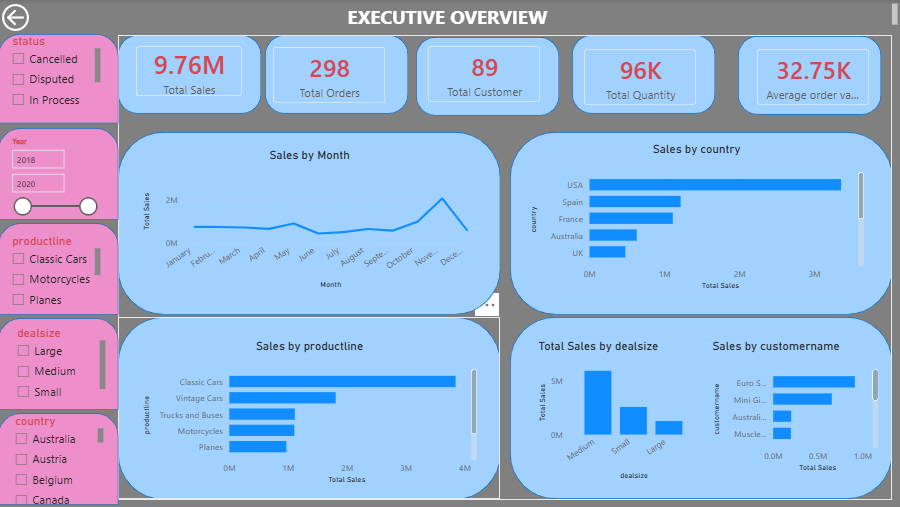

What the dashboard file says about the page in this screenshot:
{"tool":"powerbi","page":{"name":"Executive Overview","canvas":[1280,720],"ordinal":1},"visuals":[{"type":"shape","box":[0,47.9,170.9,126.7],"z":0,"group":"g2"},{"type":"group","id":"g1","title":"Group 1","box":[170.2,50.1,1097.1,657.9],"z":0},{"type":"shape","box":[379,50.1,203.1,111.6],"z":0,"group":"g1"},{"type":"group","id":"g2","title":"Group 2","box":[0,47.9,170.9,666.5],"z":1000},{"type":"shape","box":[592.1,53,203.1,111.6],"z":1000,"group":"g1"},{"type":"shape","box":[0,181.2,170.9,130],"z":1000,"group":"g2"},{"type":"shape","box":[813.8,50.1,203.1,111.6],"z":2000,"group":"g1"},{"type":"shape","box":[0,316.1,170.9,130],"z":2000,"group":"g2"},{"type":"columnChart","fields":{"Category":["FactSales.dealsize"],"Y":["Datetable.Total Sales"]},"box":[761.3,480,236.2,204.5],"z":2000},{"type":"shape","box":[1048.3,51.5,203.1,111.6],"z":3000,"group":"g1"},{"type":"shape","box":[0,451.1,170.9,130],"z":3000,"group":"g2"},{"type":"barChart","title":"Sales by customername","fields":{"Y":["Datetable.Total Sales"],"Category":["FactSales.customername"]},"box":[1007.7,480,244.8,193],"z":3000},{"type":"textbox","box":[0,0,1280.2,43.2],"z":4000},{"type":"shape","box":[725.6,450,541.7,258.1],"z":4000,"group":"g1"},{"type":"shape","box":[0,584.4,170.9,130],"z":4000,"group":"g2"},{"type":"cardVisual","fields":{"Data":["Datetable.Total Sales"]},"box":[178.8,48.6,184.5,105.8],"z":5000},{"type":"shape","box":[170.2,449.1,542,258.9],"z":5000,"group":"g1"},{"type":"shape","box":[170.2,187.4,542,258.9],"z":6000,"group":"g1"},{"type":"lineChart","title":"Sales by Month","fields":{"Y":["Datetable.Total Sales"],"Category":["FactSales.year_month.Variation.Date Hierarchy.Year","FactSales.year_month.Variation.Date Hierarchy.Quarter","FactSales.year_month.Variation.Date Hierarchy.Month","FactSales.year_month.Variation.Date Hierarchy.Day"]},"box":[200,210.3,483.9,203.9],"z":6000},{"type":"cardVisual","fields":{"Data":["Datetable.Total Orders"]},"box":[373,49,193.7,113.8],"z":7000},{"type":"shape","box":[725.1,187.4,542,258.9],"z":7000,"group":"g1"},{"type":"shape","box":[170.2,50.1,203.1,111.6],"z":8000,"group":"g1"},{"type":"barChart","title":"Sales by productline","fields":{"Y":["Datetable.Total Sales"],"Category":["FactSales.productline"]},"box":[200,480,483.8,210.2],"z":8000},{"type":"cardVisual","fields":{"Data":["Datetable.Total Quantity"]},"box":[813.6,51.8,193.7,113.8],"z":9000},{"type":"barChart","title":"Sales by country","fields":{"Y":["Datetable.Total Sales"],"Category":["FactSales.country"]},"box":[748.4,201.3,483.9,214.2],"z":10000},{"type":"cardVisual","fields":{"Data":["Datetable.Total Customer"]},"box":[592.1,48.6,193.7,113.8],"z":11000},{"type":"slicer","fields":{"Values":["Datetable.Year"]},"box":[6.8,188,142.6,121],"z":12000},{"type":"cardVisual","fields":{"Data":["Datetable.Average order value"]},"box":[1058.4,51.8,193.7,113.8],"z":13000},{"type":"slicer","fields":{"Values":["FactSales.productline"]},"box":[6.8,326.4,142.6,119.5],"z":14000},{"type":"slicer","fields":{"Values":["FactSales.country"]},"box":[12,581,142.6,138.2],"z":15000},{"type":"slicer","fields":{"Values":["FactSales.dealsize"]},"box":[13.7,456.3,142.6,112.3],"z":16000},{"type":"slicer","fields":{"Values":["FactSales.status"]},"box":[7.2,43.2,142.6,122.4],"z":17000},{"type":"actionButton","box":[0,0,107.7,49.6],"z":18000}]}

Visuals, with their boxes on the page's 1280x720 design canvas (x1, y1, x2, y2). These are canvas units, not pixel positions in the 900x507 screenshot, which may show the page scaled, cropped or inside an application window:
shape: [left=0, top=48, right=171, bottom=175]
"Group 1" group: [left=170, top=50, right=1267, bottom=708]
shape: [left=379, top=50, right=582, bottom=162]
"Group 2" group: [left=0, top=48, right=171, bottom=714]
shape: [left=592, top=53, right=795, bottom=165]
shape: [left=0, top=181, right=171, bottom=311]
shape: [left=814, top=50, right=1017, bottom=162]
shape: [left=0, top=316, right=171, bottom=446]
columnChart - FactSales.dealsize x Datetable.Total Sales: [left=761, top=480, right=998, bottom=684]
shape: [left=1048, top=52, right=1251, bottom=163]
shape: [left=0, top=451, right=171, bottom=581]
"Sales by customername" barChart: [left=1008, top=480, right=1252, bottom=673]
textbox: [left=0, top=0, right=1280, bottom=43]
shape: [left=726, top=450, right=1267, bottom=708]
shape: [left=0, top=584, right=171, bottom=714]
cardVisual - Datetable.Total Sales: [left=179, top=49, right=363, bottom=154]
shape: [left=170, top=449, right=712, bottom=708]
shape: [left=170, top=187, right=712, bottom=446]
"Sales by Month" lineChart: [left=200, top=210, right=684, bottom=414]
cardVisual - Datetable.Total Orders: [left=373, top=49, right=567, bottom=163]
shape: [left=725, top=187, right=1267, bottom=446]
shape: [left=170, top=50, right=373, bottom=162]
"Sales by productline" barChart: [left=200, top=480, right=684, bottom=690]
cardVisual - Datetable.Total Quantity: [left=814, top=52, right=1007, bottom=166]
"Sales by country" barChart: [left=748, top=201, right=1232, bottom=416]
cardVisual - Datetable.Total Customer: [left=592, top=49, right=786, bottom=162]
slicer - Datetable.Year: [left=7, top=188, right=149, bottom=309]
cardVisual - Datetable.Average order value: [left=1058, top=52, right=1252, bottom=166]
slicer - FactSales.productline: [left=7, top=326, right=149, bottom=446]
slicer - FactSales.country: [left=12, top=581, right=155, bottom=719]
slicer - FactSales.dealsize: [left=14, top=456, right=156, bottom=569]
slicer - FactSales.status: [left=7, top=43, right=150, bottom=166]
actionButton: [left=0, top=0, right=108, bottom=50]
